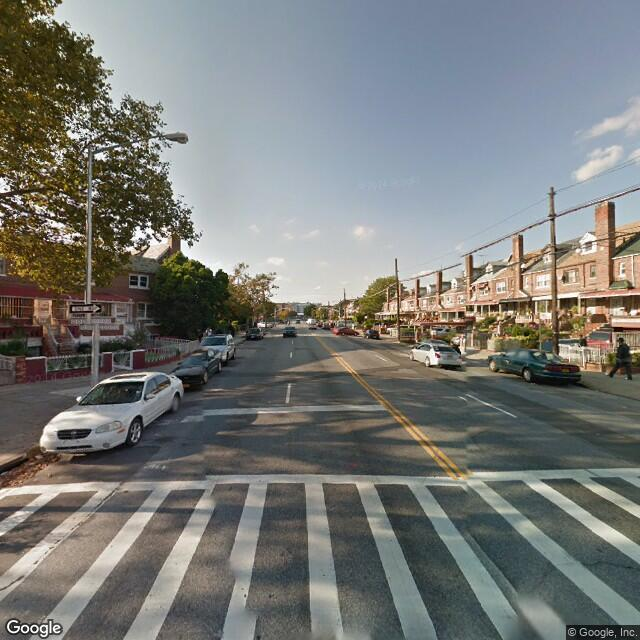litter: (37, 454, 41, 456)
